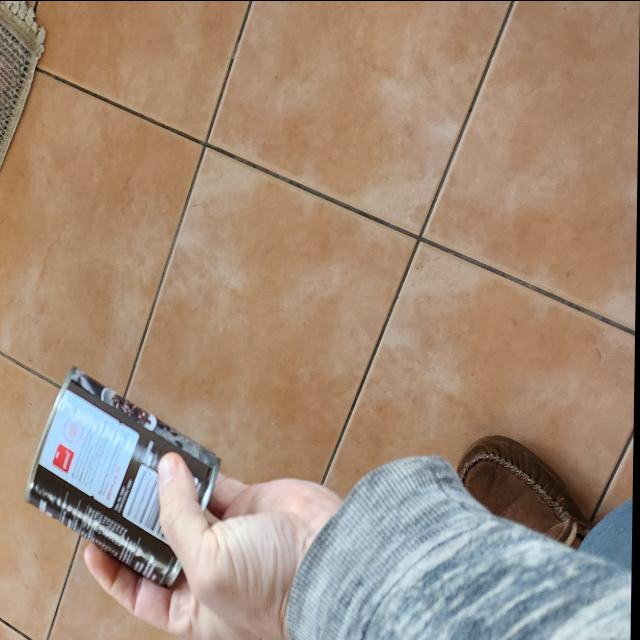black beans: (22, 362, 225, 582)
